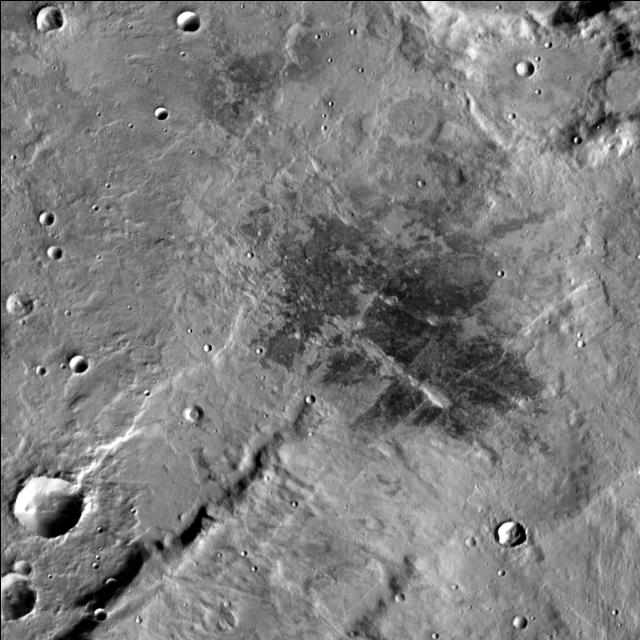crater: (452, 0, 630, 151), (80, 430, 208, 548), (7, 472, 73, 534), (374, 91, 434, 146), (591, 53, 640, 118), (0, 571, 27, 617), (488, 518, 518, 544), (26, 2, 54, 28), (0, 290, 25, 314), (167, 8, 191, 30), (59, 352, 79, 370), (372, 438, 392, 456), (176, 402, 196, 419), (508, 56, 527, 73), (5, 558, 23, 574), (560, 408, 578, 424), (312, 321, 330, 336), (358, 514, 374, 530), (38, 242, 54, 256), (32, 208, 46, 222), (332, 209, 347, 222), (145, 104, 159, 117), (84, 606, 98, 618), (506, 616, 520, 628), (553, 320, 566, 332), (97, 576, 109, 588), (27, 362, 38, 372), (386, 590, 396, 600), (435, 78, 445, 88), (298, 394, 308, 402), (379, 294, 389, 302), (418, 313, 428, 321), (458, 535, 467, 543), (27, 296, 36, 304), (566, 133, 574, 141), (194, 341, 202, 348), (408, 177, 416, 184), (572, 339, 580, 346), (542, 44, 550, 51), (422, 628, 429, 636), (288, 329, 296, 336), (222, 606, 230, 612), (496, 274, 504, 280), (506, 116, 513, 122), (291, 506, 298, 512), (498, 574, 504, 580)
